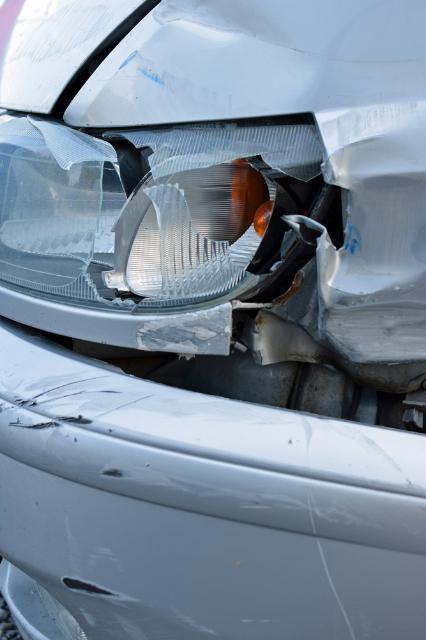dent: (325, 137, 426, 296), (155, 4, 308, 91)
dislocated part: (0, 314, 426, 640)
lamp broken: (0, 113, 327, 312)
scratch: (0, 370, 410, 524), (57, 536, 228, 640), (0, 3, 123, 65)
